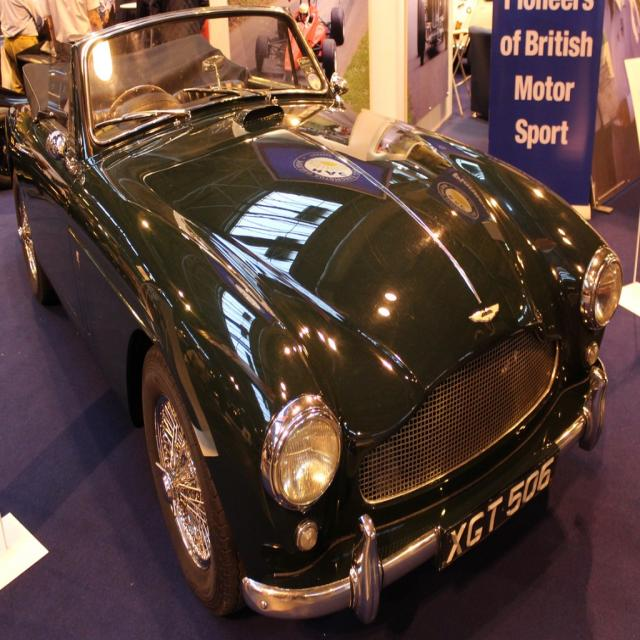other: (3, 3, 626, 639), (252, 0, 347, 76), (416, 0, 448, 66)
